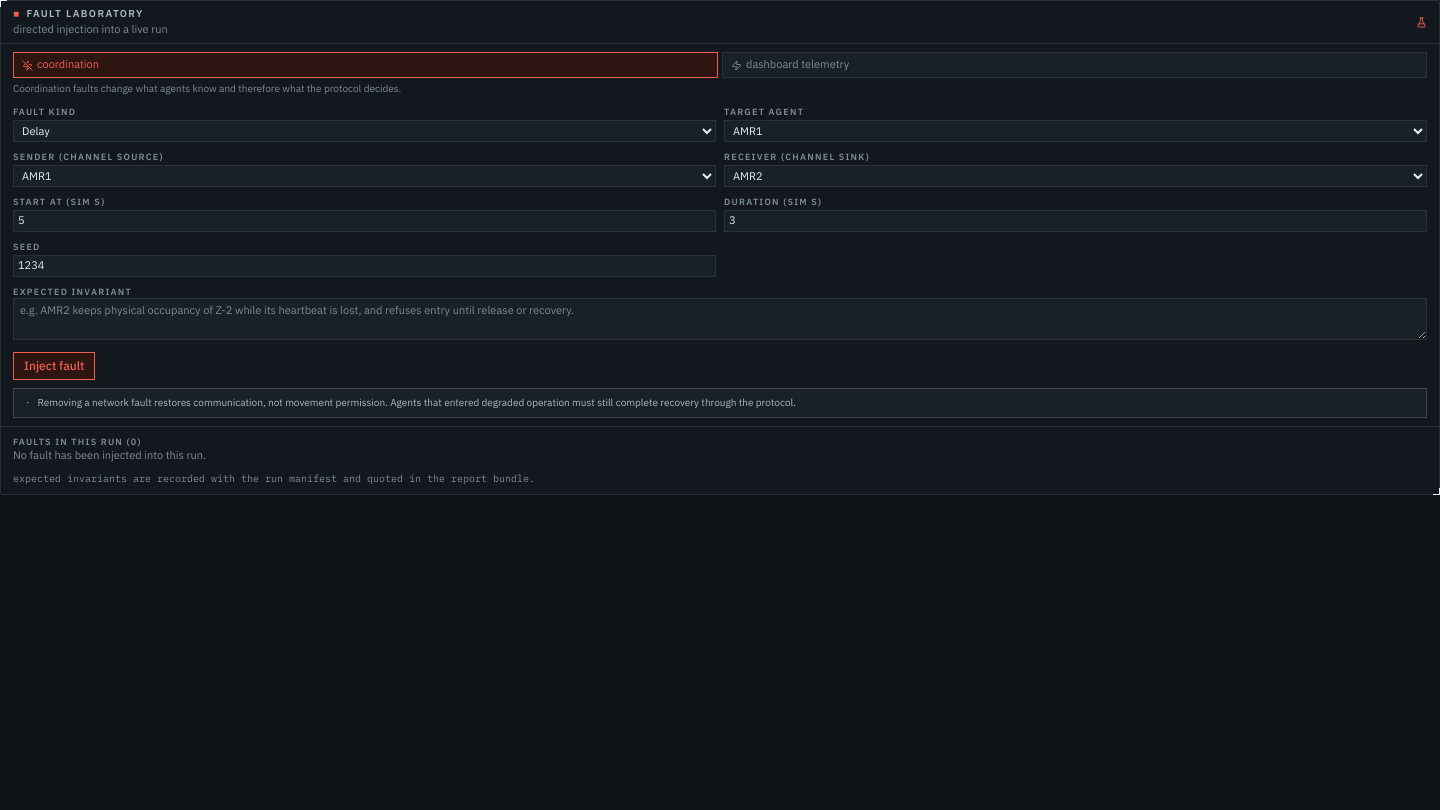
Test: FaultLab › shows an actionable message and refuses to submit an untargeted channel fault
The image size is (1440, 810).
Clear the receiver so the channel fault has no target.
Select "choose a receiver…" in the dropdown with test id "fault-receiver": (1076, 176) [724,165,1427,187]
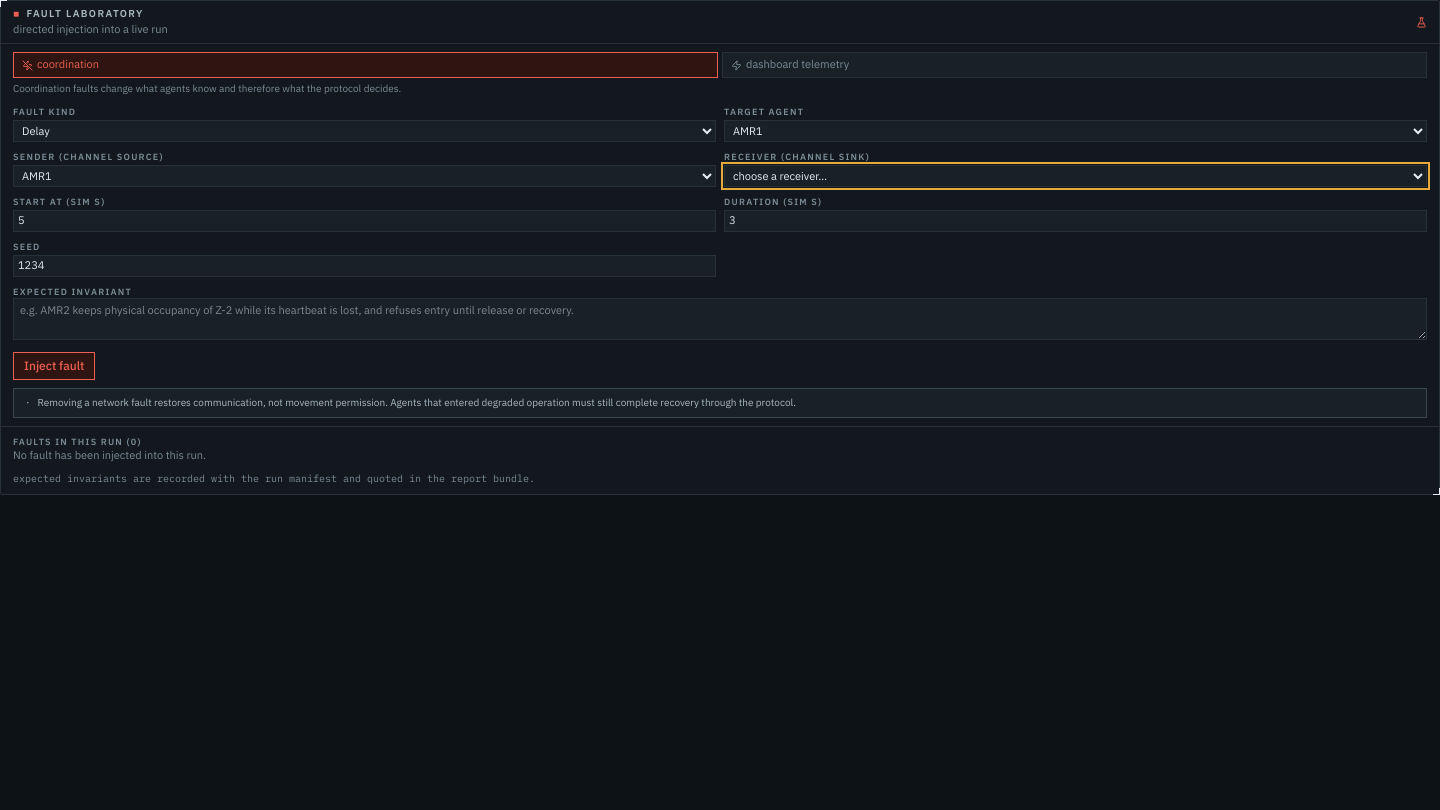
Click the button with test id "fault-submit": (54, 366) [13,352,96,380]
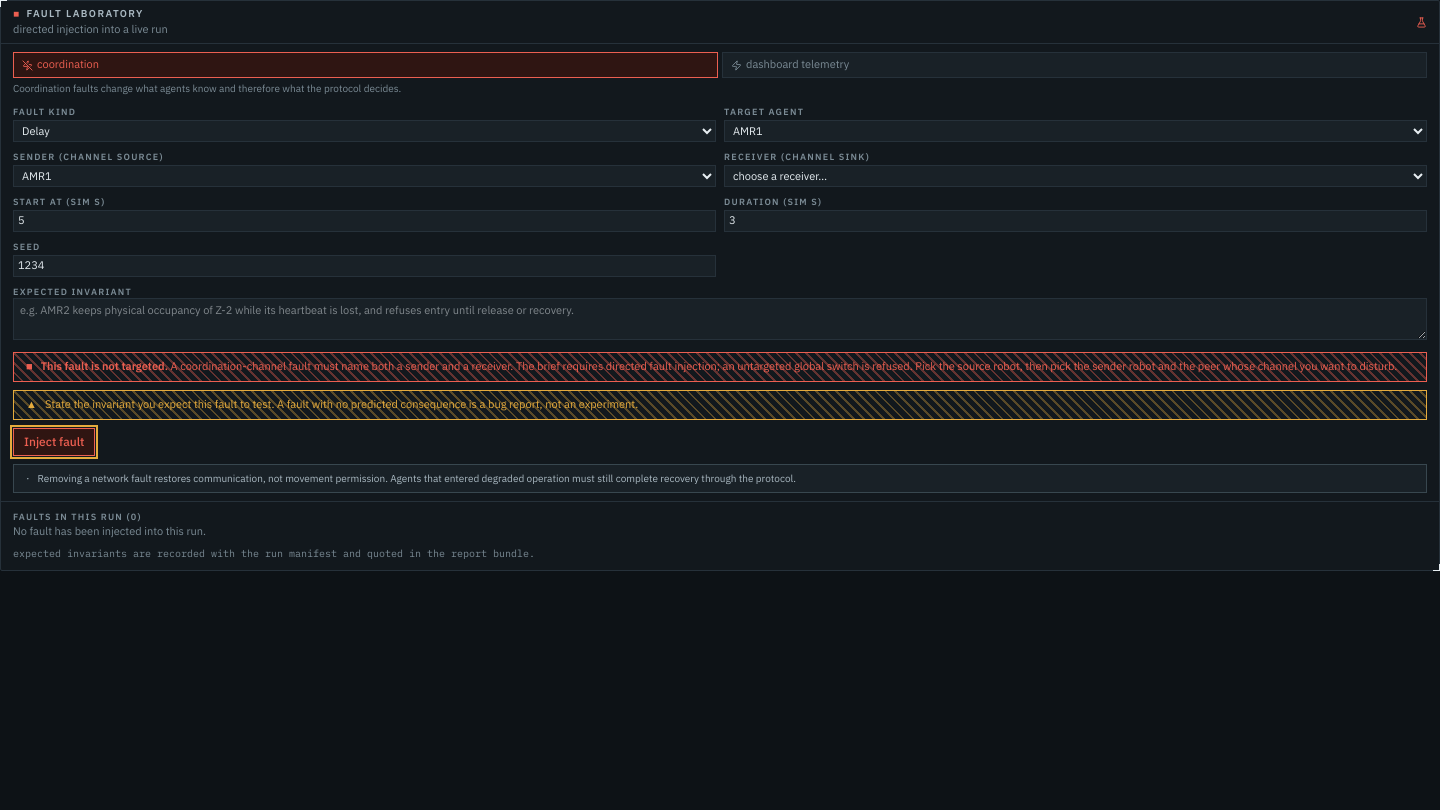
Result: the element with test id "fault-error" shows "This fault is not targeted." at [41,359,168,373]
Result: the element with test id "fault-error" shows "must name both a sender and a receiver" at [171,359,1397,373]
